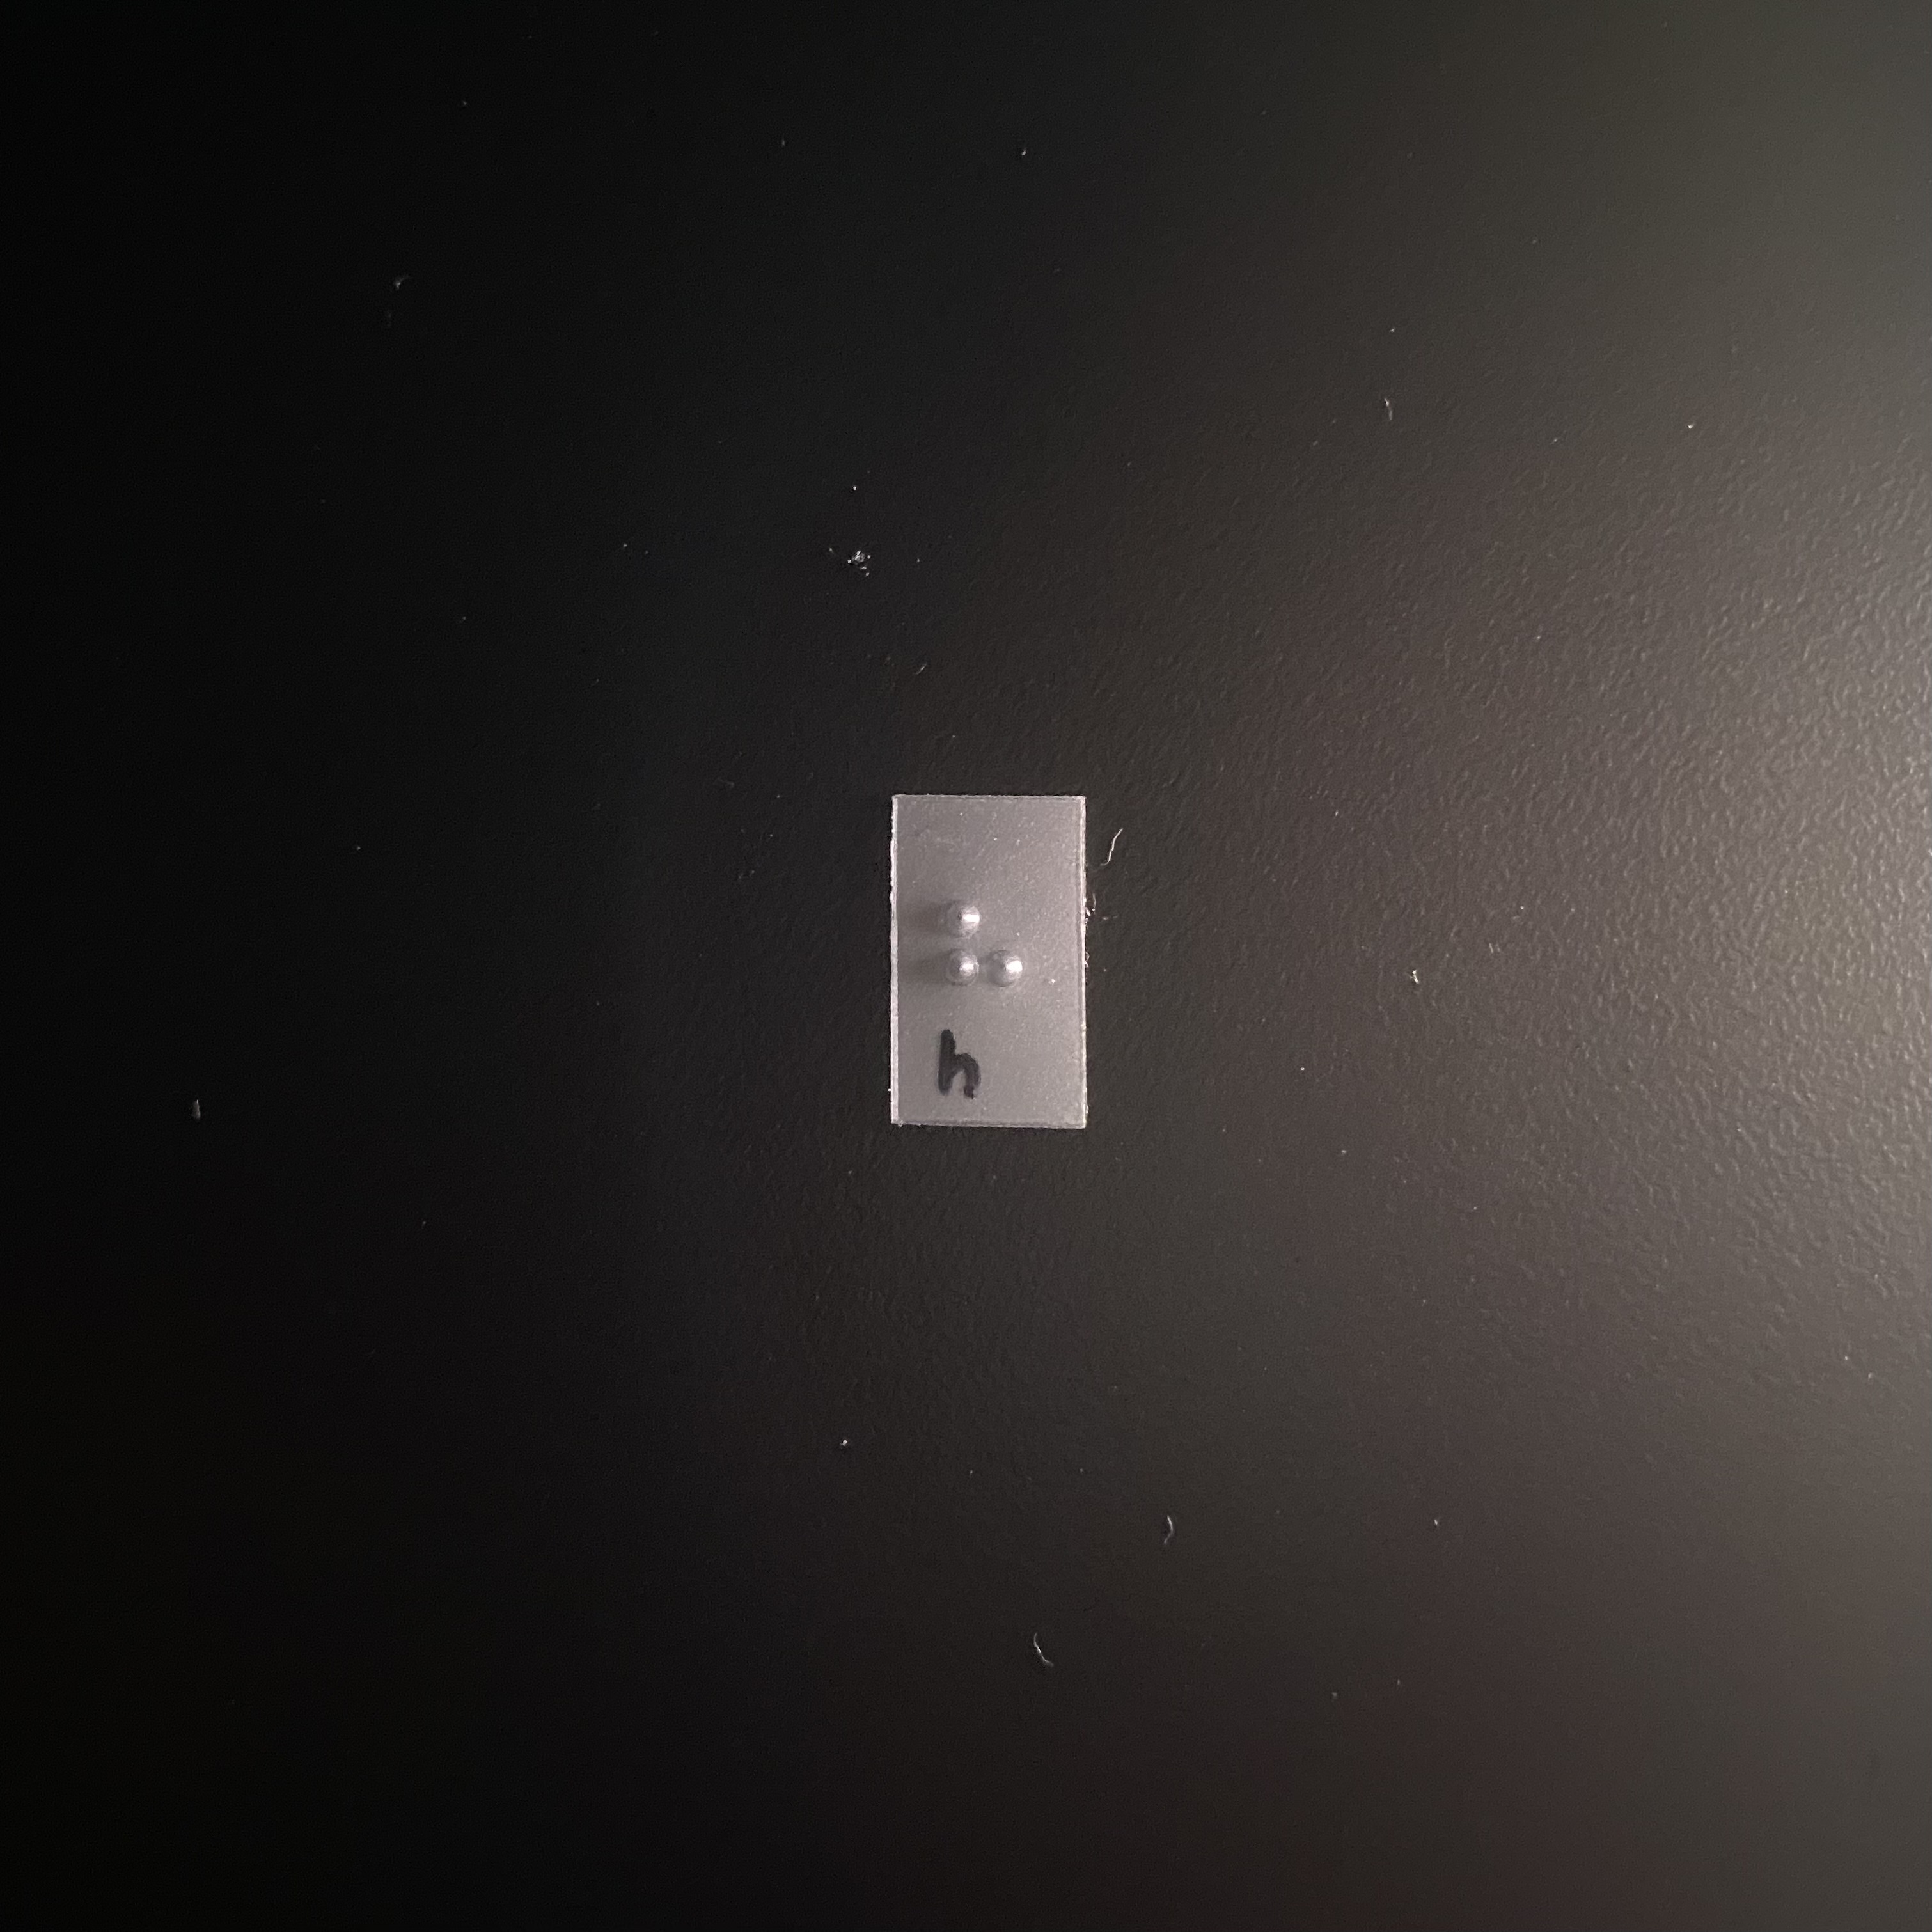h: (924, 879, 1039, 1055)
